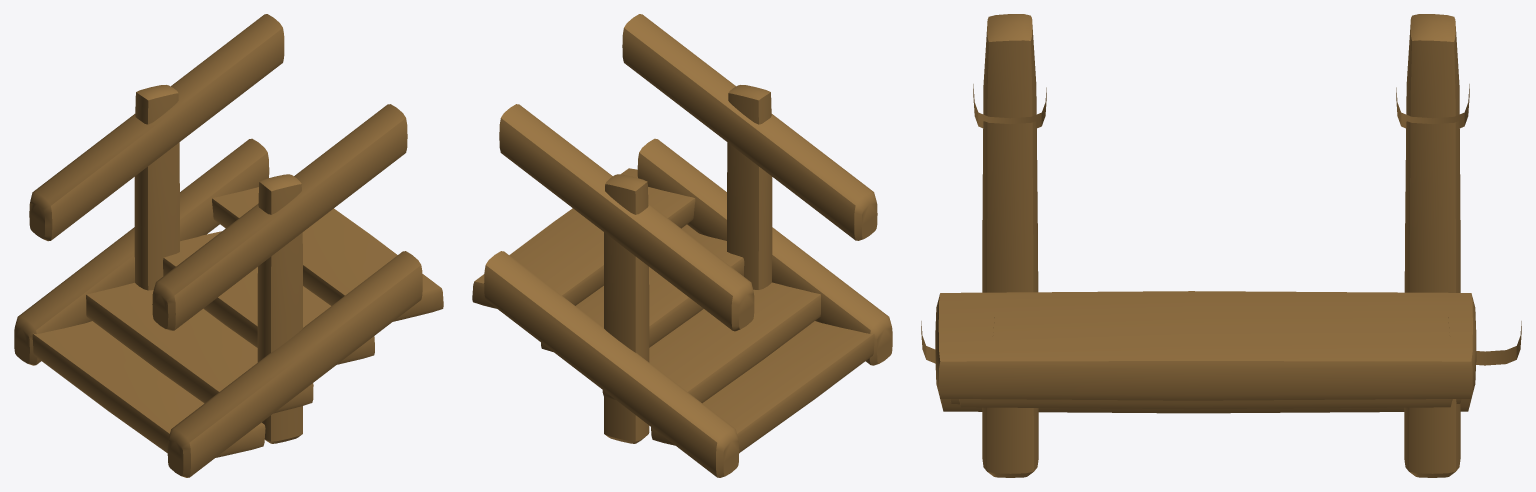
File: Stairs_Modular_Start.glb
3 renders of one model, left to right at view 1: azimuth 30°, elevation 25°; view 2: azimuth 150°, elevation 25°; view 3: azimuth 270°, elevation 25°, orthographic. The views are drawn at different scales.
Parts seen in each view (by area): view 1: Stairs_Modular_Start; view 2: Stairs_Modular_Start; view 3: Stairs_Modular_Start.
Part boxes in pixels (x1=…): Stairs_Modular_Start: x1=14, y1=14, x2=443, y2=477; Stairs_Modular_Start: x1=472, y1=14, x2=892, y2=477; Stairs_Modular_Start: x1=921, y1=14, x2=1521, y2=477.
Size of the model in its own units: 2.24 by 2.43 by 2.56.
